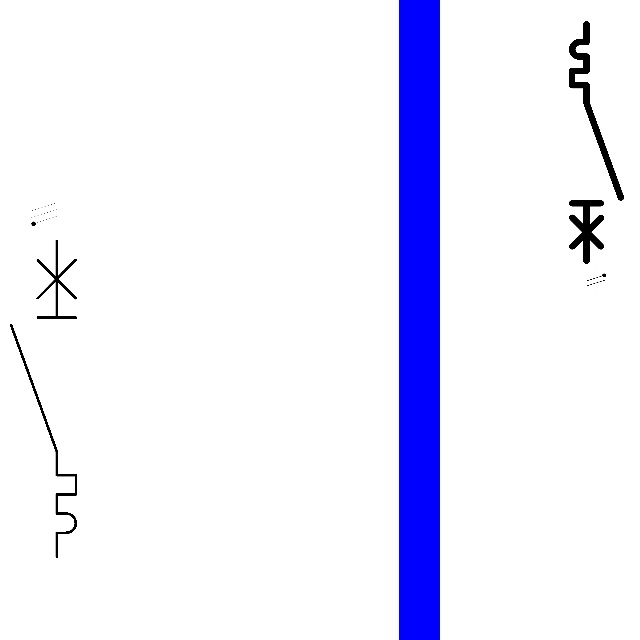interruptor_termomagnetico: (3, 232, 84, 564), (566, 18, 627, 267)
